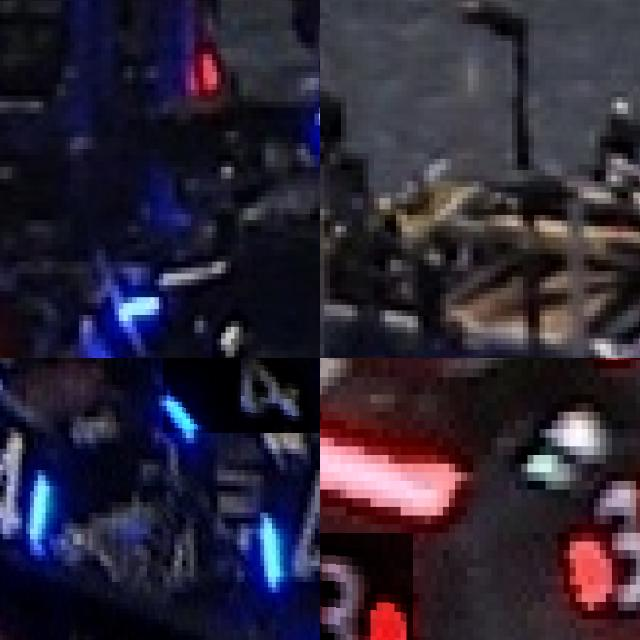B4: (162, 358, 320, 432), (252, 470, 320, 592), (0, 416, 53, 550)
R3: (557, 463, 640, 610), (320, 533, 412, 640)
